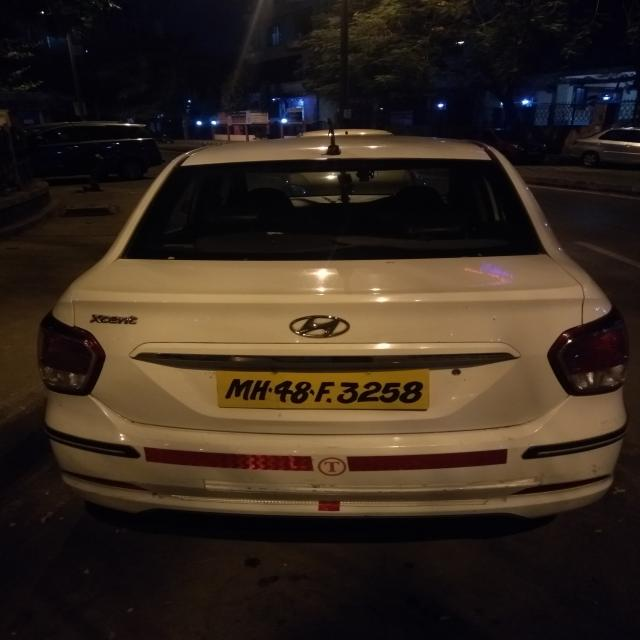Number-Plate: (217, 370, 428, 411)
